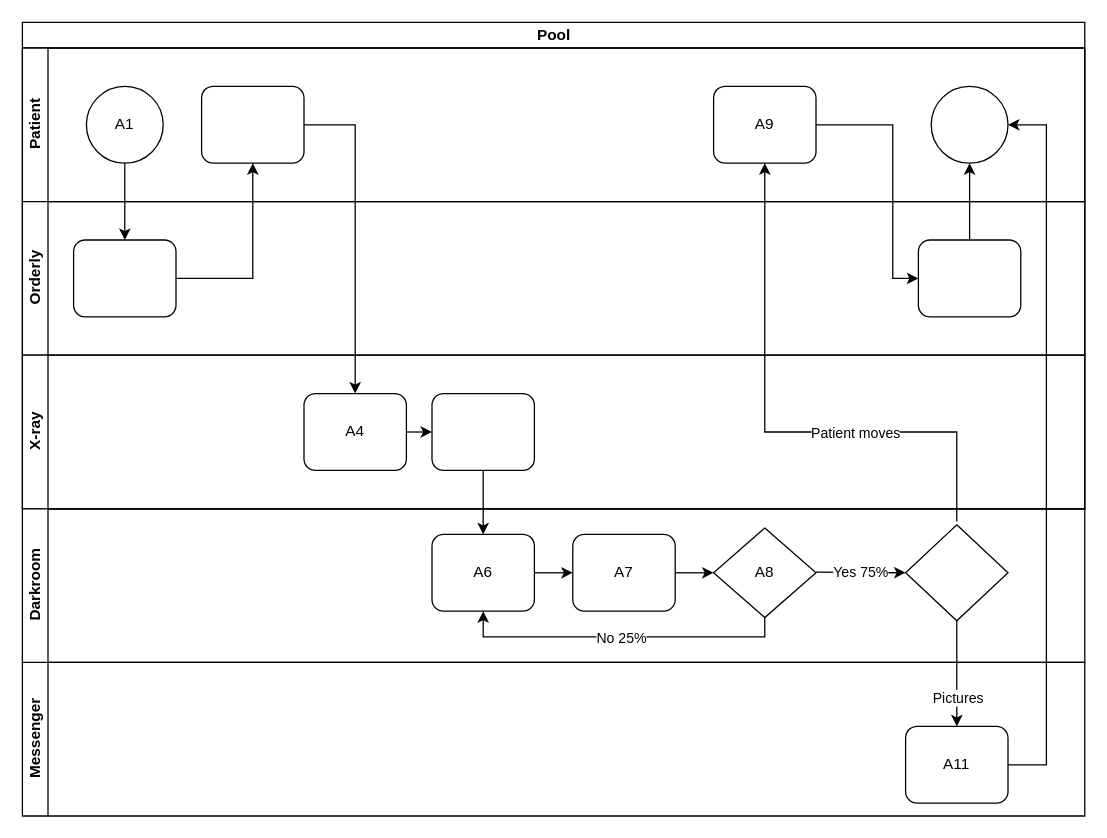
Image size: 1107x838. Some labels were removed from this diagram. Each missing label, with the centre of its shape:
A10: the point at 969,278
A12: the point at 969,124
A2: the point at 124,278
A3: the point at 252,124
A5: the point at 482,431
Parallel jobs: the point at 956,572
